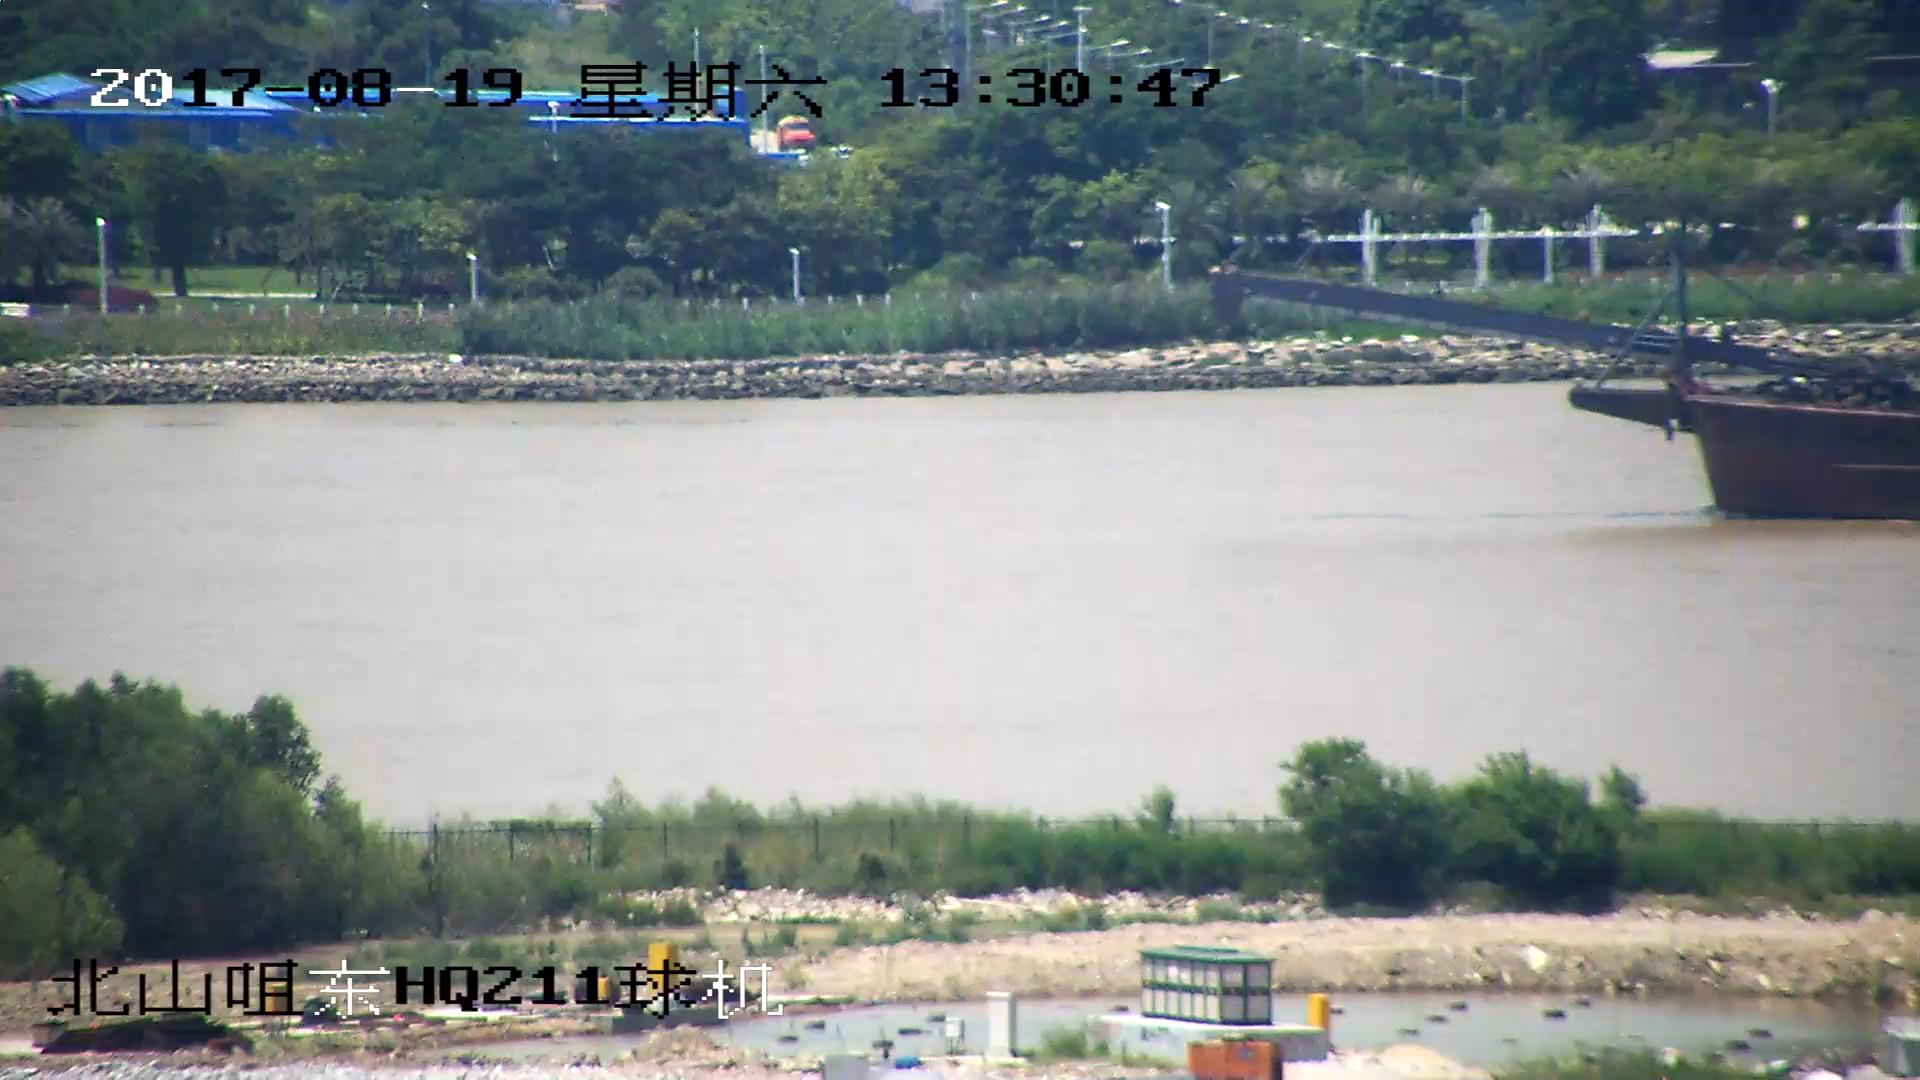bulk cargo carrier: (1218, 254, 1920, 518)
